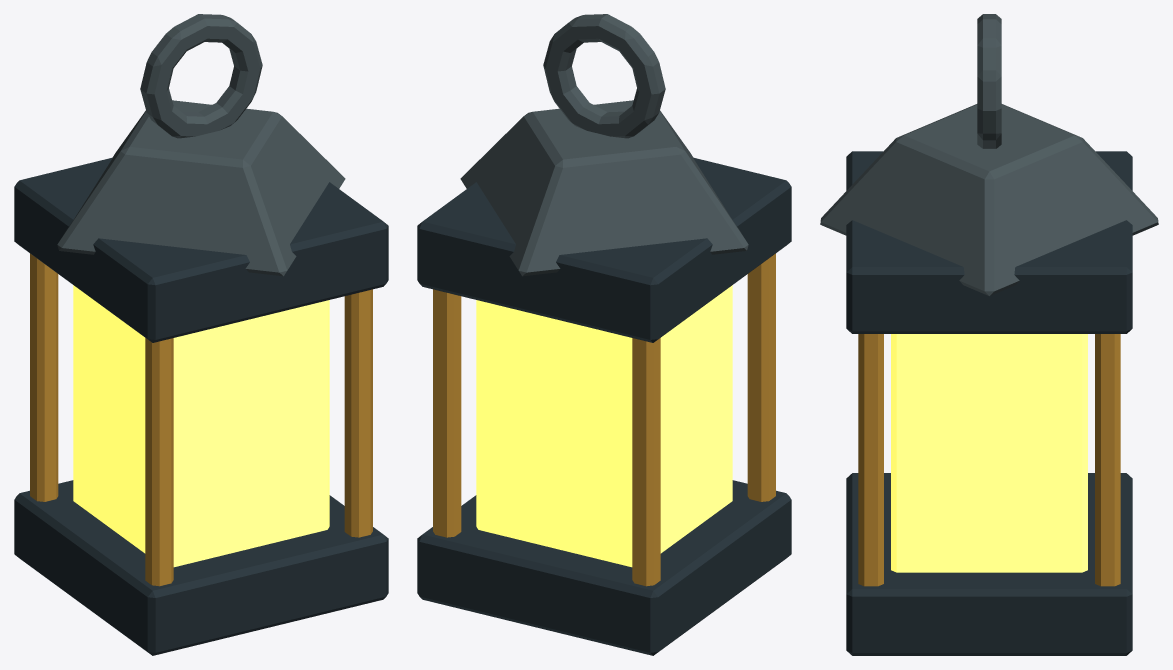
File: warm_lantern.glb
The picture shows the model from 3 angles, left to right: view 1: azimuth 30°, elevation 25°; view 2: azimuth 150°, elevation 25°; view 3: azimuth 270°, elevation 25°; orthographic projection. The views are drawn at different scales.
Parts seen in each view (by area): view 1: warm_lantern__body__dark, warm_lantern__body__glow, warm_lantern__body__metal, warm_lantern__body__brass; view 2: warm_lantern__body__dark, warm_lantern__body__glow, warm_lantern__body__metal, warm_lantern__body__brass; view 3: warm_lantern__body__dark, warm_lantern__body__glow, warm_lantern__body__metal, warm_lantern__body__brass.
Boxes of the visible parts, box(x1,y1,x2,y2) form: warm_lantern__body__dark: box(14, 157, 388, 655); warm_lantern__body__glow: box(73, 285, 329, 567); warm_lantern__body__metal: box(57, 14, 345, 276); warm_lantern__body__brass: box(30, 253, 372, 586); warm_lantern__body__dark: box(417, 157, 791, 655); warm_lantern__body__glow: box(476, 285, 732, 567); warm_lantern__body__metal: box(460, 14, 748, 276); warm_lantern__body__brass: box(433, 253, 775, 586); warm_lantern__body__dark: box(846, 151, 1132, 655); warm_lantern__body__glow: box(891, 334, 1087, 572); warm_lantern__body__metal: box(820, 14, 1158, 295); warm_lantern__body__brass: box(858, 334, 1120, 586).
Bounding box in the file's own units: 0.343 × 0.6475 × 0.343.
